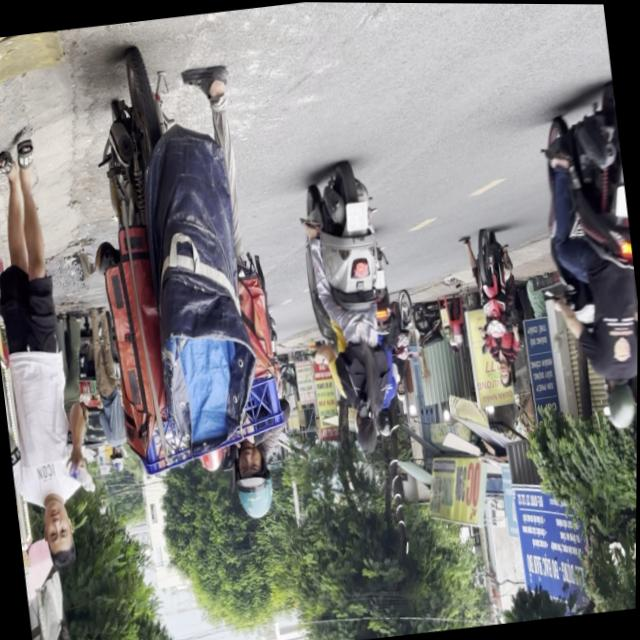helmet: (605, 379, 638, 430), (376, 406, 398, 438)
licenseplate: (527, 79, 640, 438), (293, 158, 414, 462), (463, 226, 533, 395)
motorcyclist: (354, 410, 383, 456), (498, 359, 516, 390)
nohelmet: (345, 201, 370, 231)
